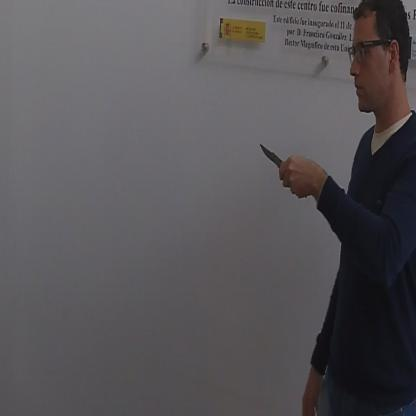knife: (255, 134, 299, 193)
